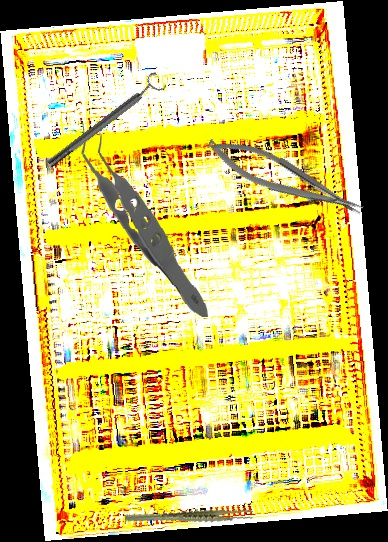Fixation Ring: (42, 70, 168, 173)
Needle Holder: (201, 126, 368, 231)
Tissue Forceps: (79, 114, 211, 324), (124, 490, 254, 542)
